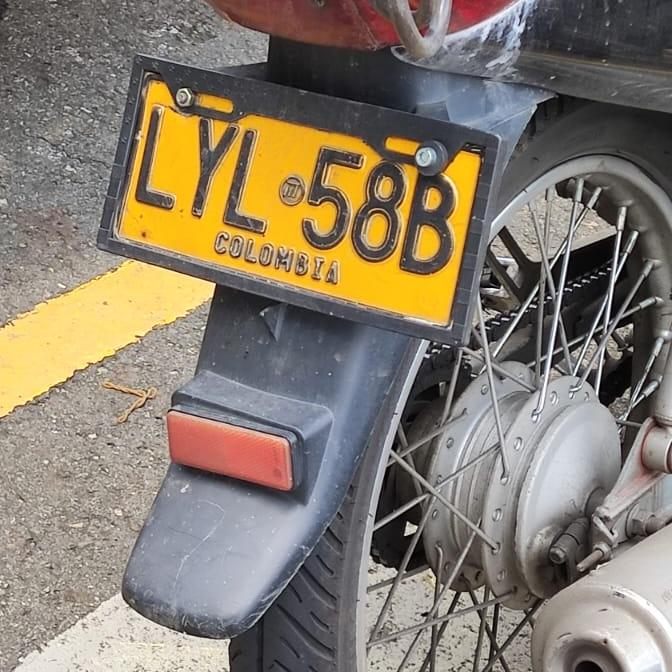plates: (101, 63, 495, 343)
